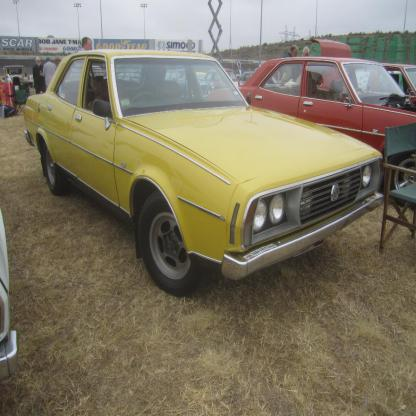Car: (23, 48, 384, 294), (206, 57, 415, 211), (294, 40, 415, 104), (68, 64, 256, 87), (0, 208, 19, 380)
